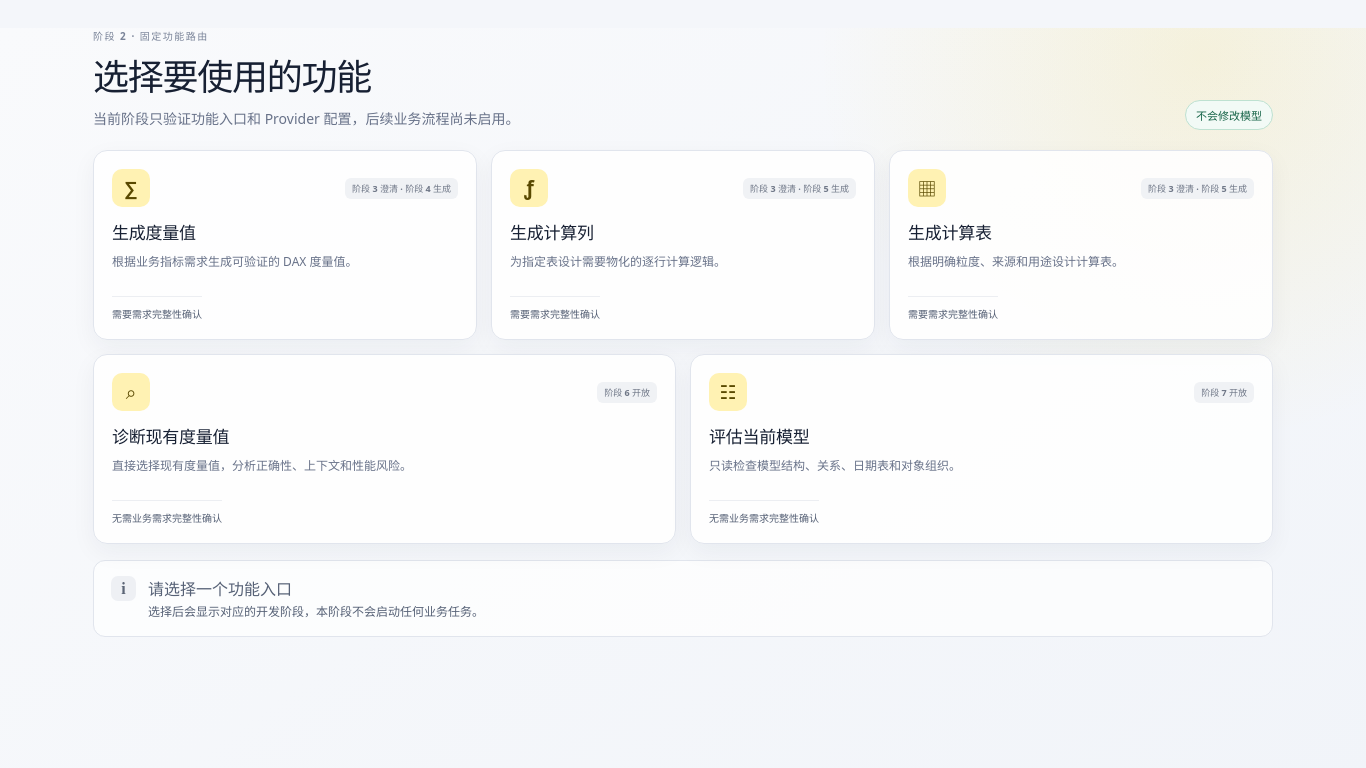
FeatureHome 阶段 2 固定功能首页 › 选择“生成计算表”时仅显示对应阶段边界
Click the button "▦ 阶段 3 澄清 · 阶段 5 生成 生成计算表 根据明确粒度、来源和用途设计计算表。 需要需求完整性确认" at (927,188), box left=889, top=150, right=1273, bottom=340
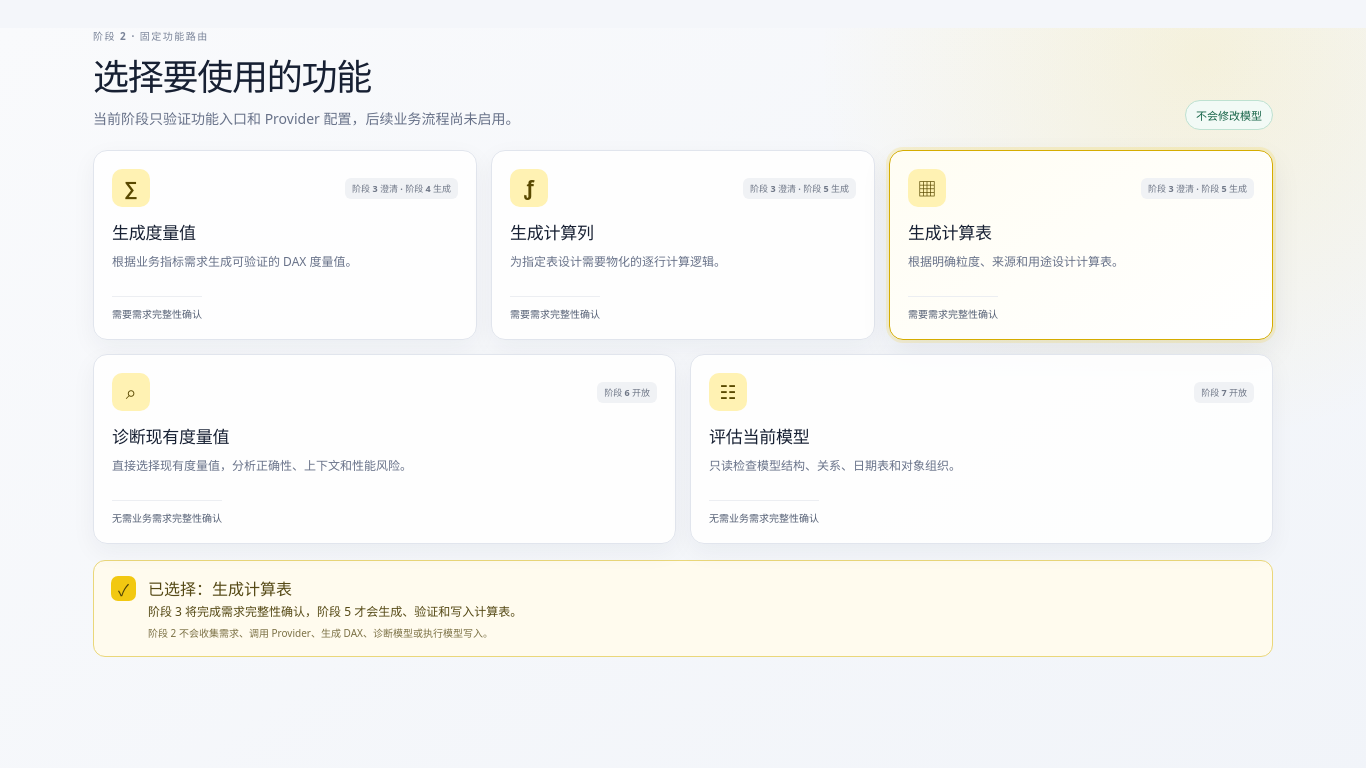
Check: the message shows "阶段 5 才会生成、验证和写入计算表", box left=148, top=603, right=522, bottom=620
Check: the message shows "不会收集需求、调用 Provider、生成 DAX、诊断模型或执行模型写入", box left=148, top=626, right=493, bottom=640
